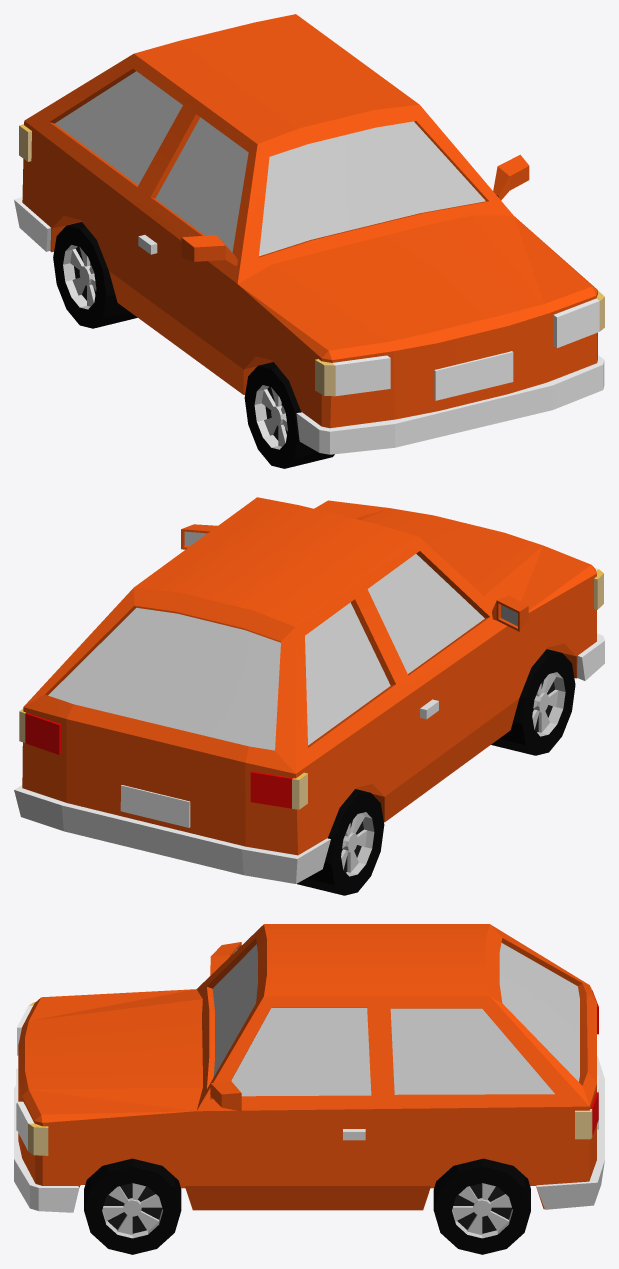
The model's file is Car-09-A.fbx.
3 views of the same model, one above another, from view 1: azimuth 30°, elevation 25°; view 2: azimuth 150°, elevation 25°; view 3: azimuth 270°, elevation 25° (orthographic). The views are drawn at different scales.
Visible parts, largest first — view 1: Car-09, BR, FR, Head-Light, Light-Right; view 2: Car-09, FR, BR, Break-Light, Light-Right; view 3: Car-09, FL, BL, Light-Left, Head-Light.
Part boxes in pixels (<box>): Car-09: <box>14,14,604,454</box>; BR: <box>53,222,137,328</box>; FR: <box>244,362,334,468</box>; Head-Light: <box>333,298,599,395</box>; Light-Right: <box>19,125,335,396</box>; Car-09: <box>14,497,604,883</box>; FR: <box>491,649,575,755</box>; BR: <box>297,789,384,895</box>; Break-Light: <box>25,713,293,808</box>; Light-Right: <box>292,570,603,809</box>; Car-09: <box>14,924,604,1212</box>; FL: <box>84,1158,181,1254</box>; BL: <box>433,1158,530,1254</box>; Light-Left: <box>28,1109,592,1155</box>; Head-Light: <box>17,1005,34,1150</box>.
Bounding box in the file's own units: 2.45 × 1.79 × 4.05.
